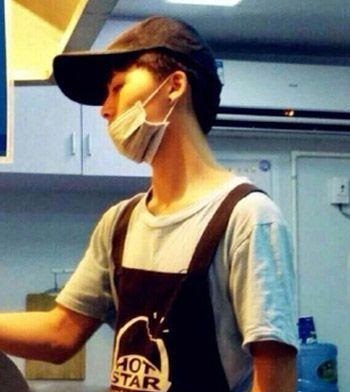face_mask: (97, 52, 165, 167)
